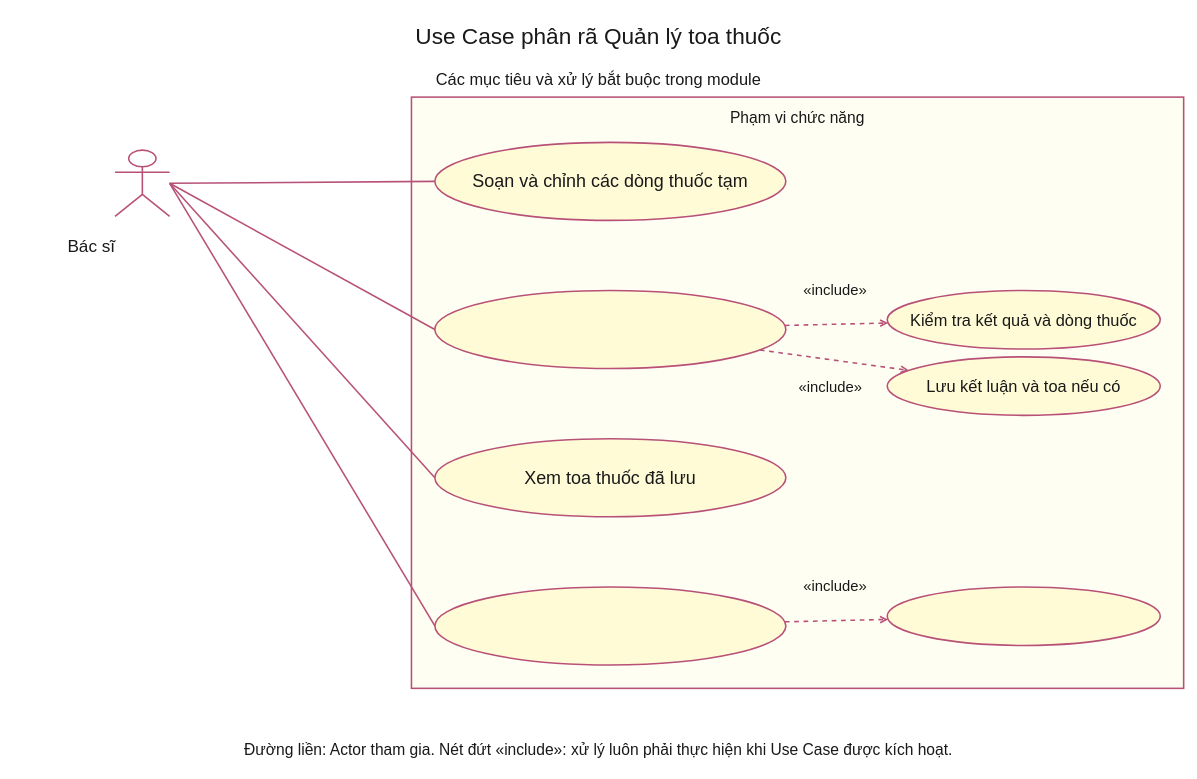
The diagram is 1197 pixels wide and 779 high, and some of its shapes have lost their labels. Here are the shapes that lost their labels. From the top down, the centre of each, then its label:
At point (610, 329): "Lưu kết luận và lập toa thuốc".
At point (610, 625): "Xuất toa thuốc đã lưu ra TXT".
At point (1023, 616): "Kiểm tra toa đã lưu".
